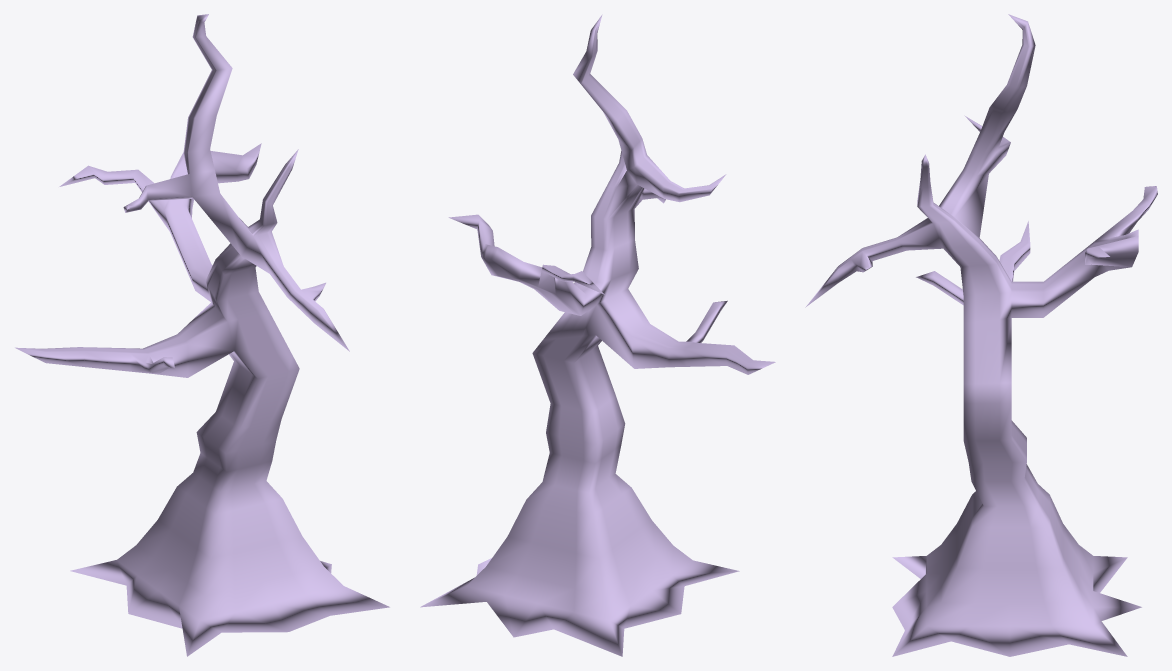
Rendered from tree.fbx.
The picture shows the model from 3 angles, left to right: view 1: azimuth 30°, elevation 25°; view 2: azimuth 150°, elevation 25°; view 3: azimuth 270°, elevation 25°; orthographic projection.
Visible parts, largest first — view 1: Cube; view 2: Cube; view 3: Cube.
Boxes of the visible parts, bbox=[...] form: Cube: bbox=[15, 14, 389, 656]; Cube: bbox=[420, 14, 775, 656]; Cube: bbox=[805, 14, 1157, 656].
Bounding box in the file's own units: 427 × 781 × 422.
